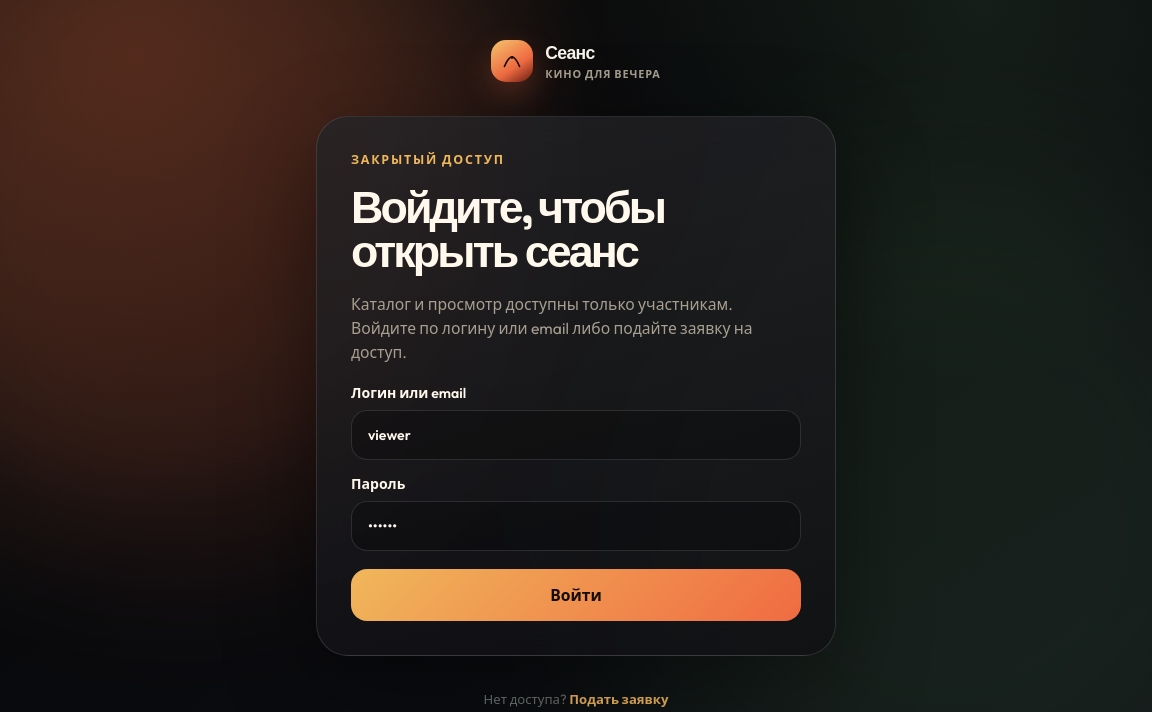
AuthGateScreen › checks that passwords match before sending
This screenshot has width=1152, height=712.
Click the button "Подать заявку": (619, 699) 569,690 -> 668,709
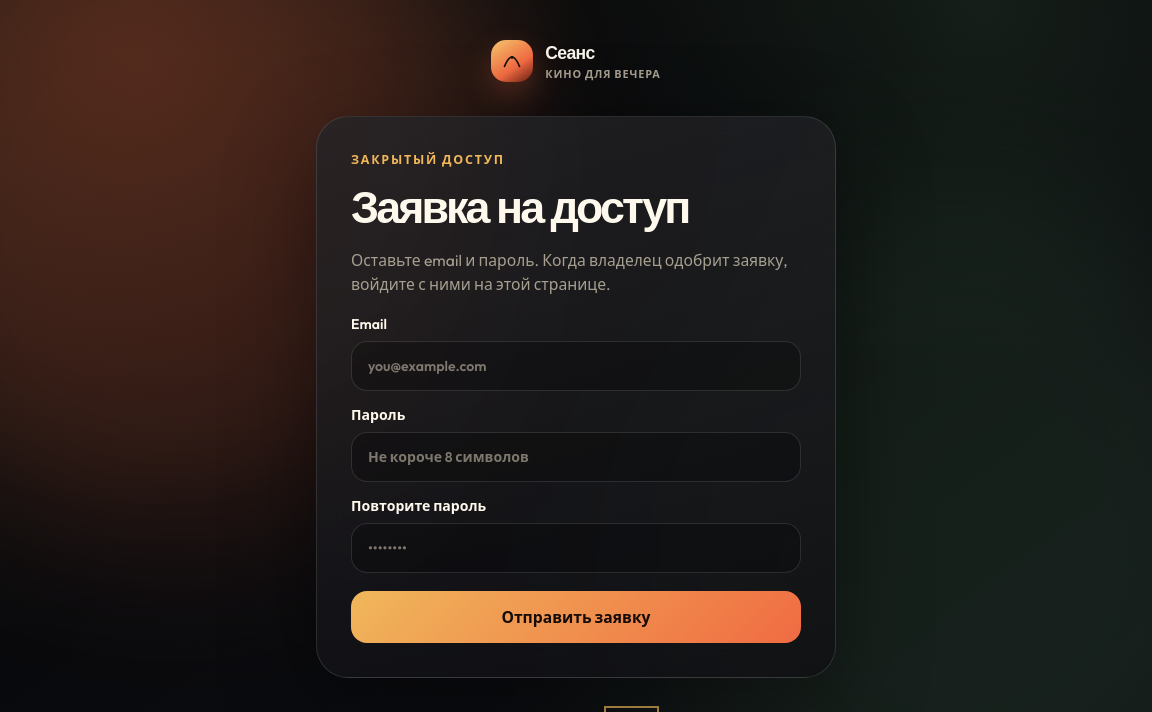
In the field labelled "Email": (576, 366) 351,340 -> 801,390, type "new@example.com"
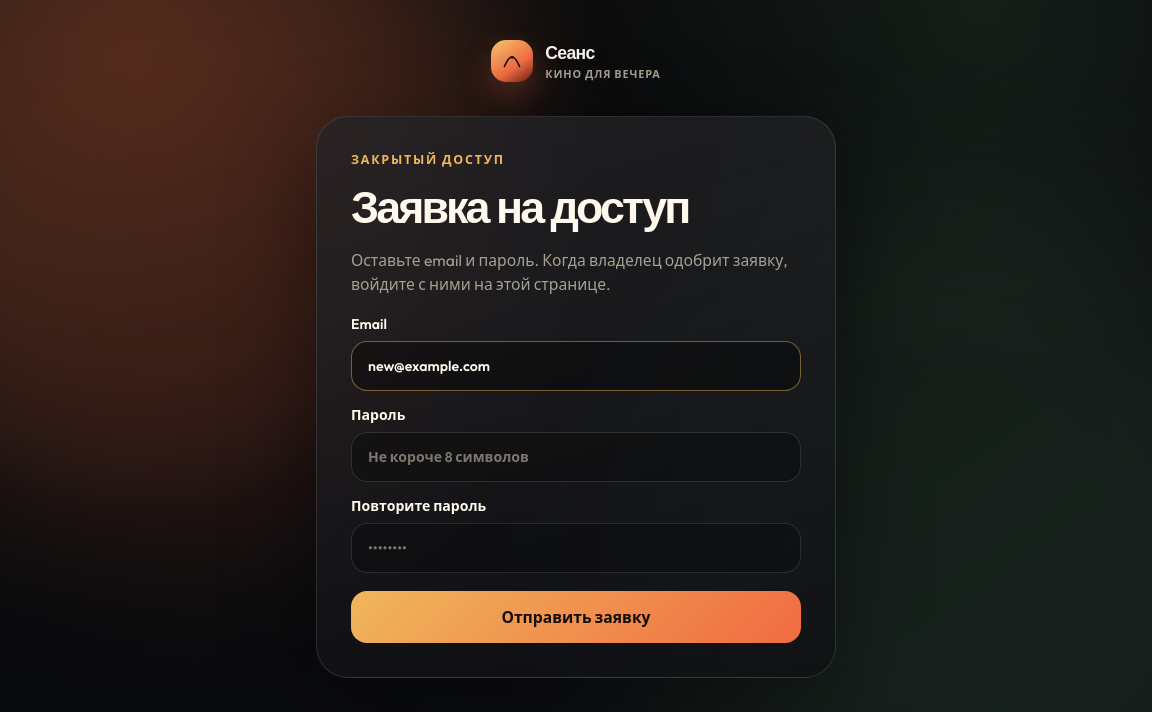
In the password field labelled "Пароль": (576, 456) 351,432 -> 801,482, type "password123"
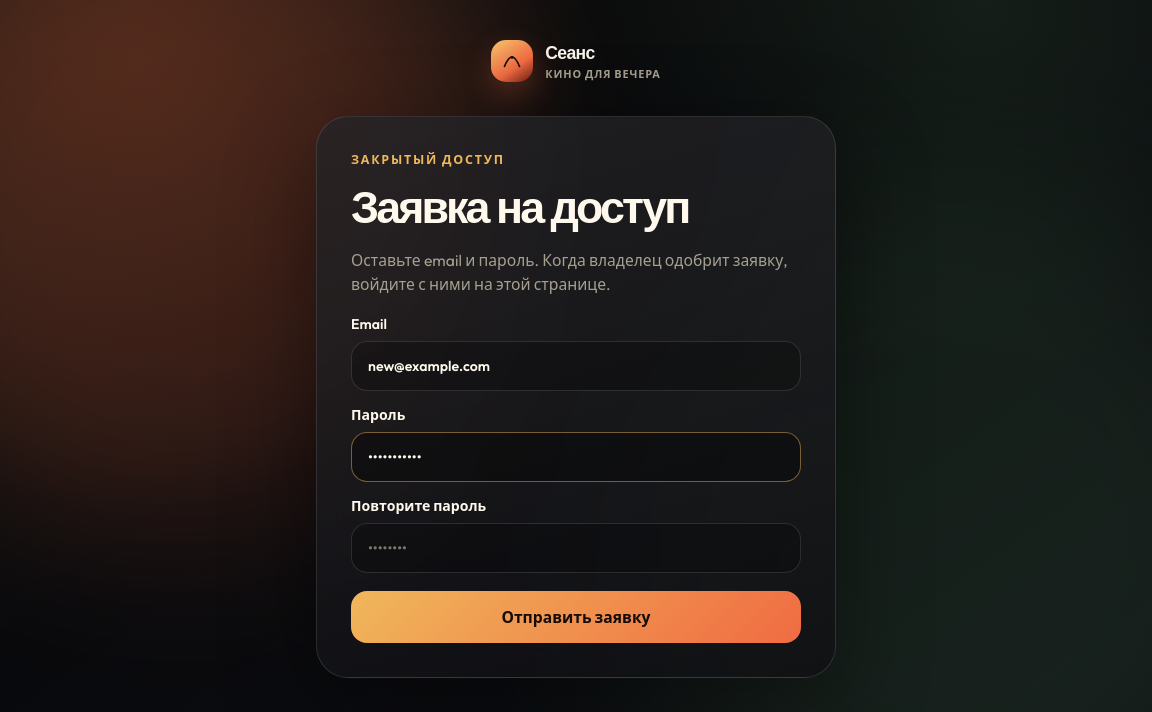
In the password field labelled "Повторите пароль": (576, 548) 351,522 -> 801,572, type "password999"
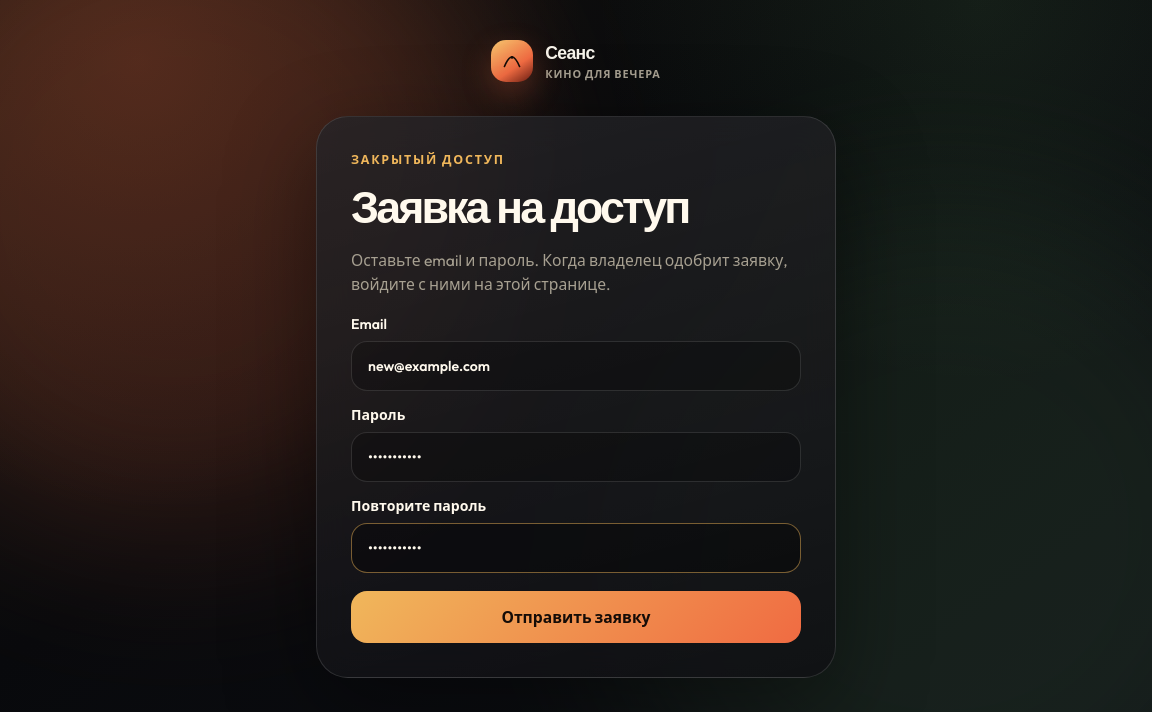
Click the button "Отправить заявку": (576, 616) 351,590 -> 801,642
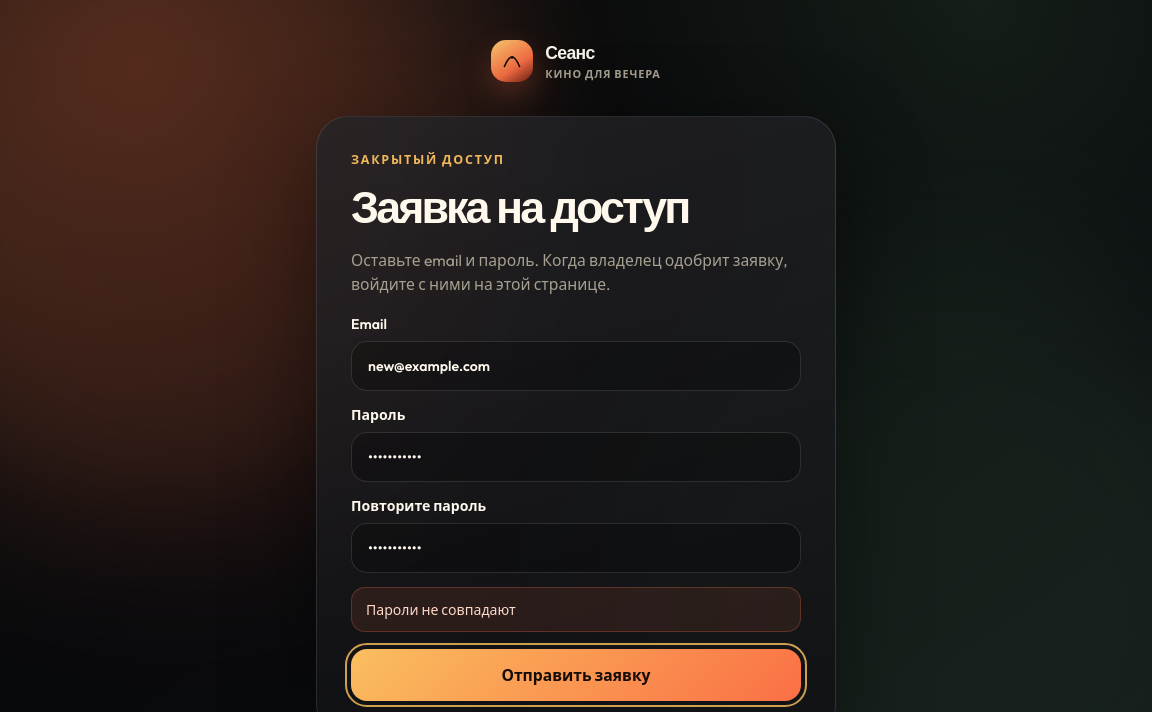
Expected: the message reads "Пароли не совпадают", 366,600 -> 516,618
